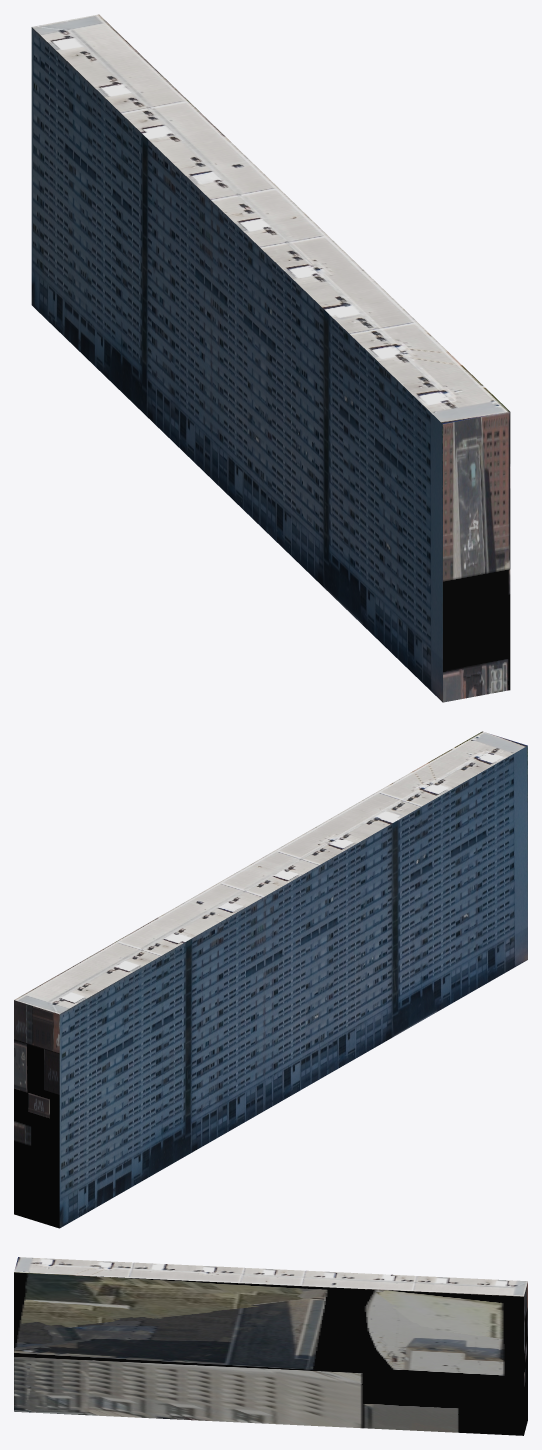
Rendered from BigApartment.fbx.
The picture shows the model from 3 angles, top to bottom: view 1: azimuth 30°, elevation 25°; view 2: azimuth 150°, elevation 25°; view 3: azimuth 270°, elevation 25°; orthographic projection. The views are drawn at different scales.
Parts seen in each view (by area): view 1: Model; view 2: Model; view 3: Model.
Boxes of the visible parts, left/top/right/bottom form: Model: left=31, top=14, right=510, bottom=702; Model: left=14, top=731, right=527, bottom=1228; Model: left=14, top=1257, right=527, bottom=1435.
Bounding box in the file's own units: 29.36 × 48.18 × 161.
